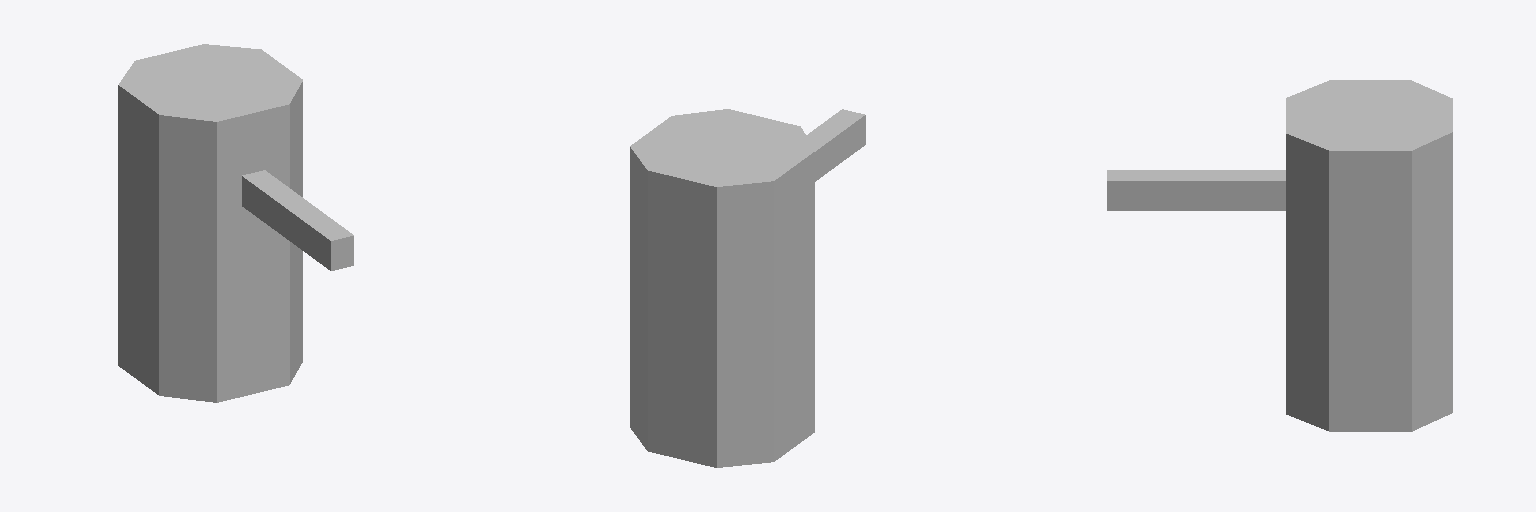
Rendered from PLAYER_MODEL_2.obj.
3 views of the same model, side by side, from view 1: azimuth 30°, elevation 25°; view 2: azimuth 150°, elevation 25°; view 3: azimuth 270°, elevation 25° (orthographic).
Visible parts, largest first — view 1: HITBOX_MODEL_Cube.002, GUN_Cube.005; view 2: HITBOX_MODEL_Cube.002, GUN_Cube.005; view 3: HITBOX_MODEL_Cube.002, GUN_Cube.005.
Part boxes in pixels (bbox=[...]): HITBOX_MODEL_Cube.002: bbox=[118, 44, 302, 402]; GUN_Cube.005: bbox=[242, 170, 353, 270]; HITBOX_MODEL_Cube.002: bbox=[630, 109, 814, 467]; GUN_Cube.005: bbox=[806, 109, 865, 181]; HITBOX_MODEL_Cube.002: bbox=[1286, 80, 1452, 431]; GUN_Cube.005: bbox=[1107, 170, 1285, 210].
Bounding box in the file's own units: 1.98 × 3.7 × 4.12.